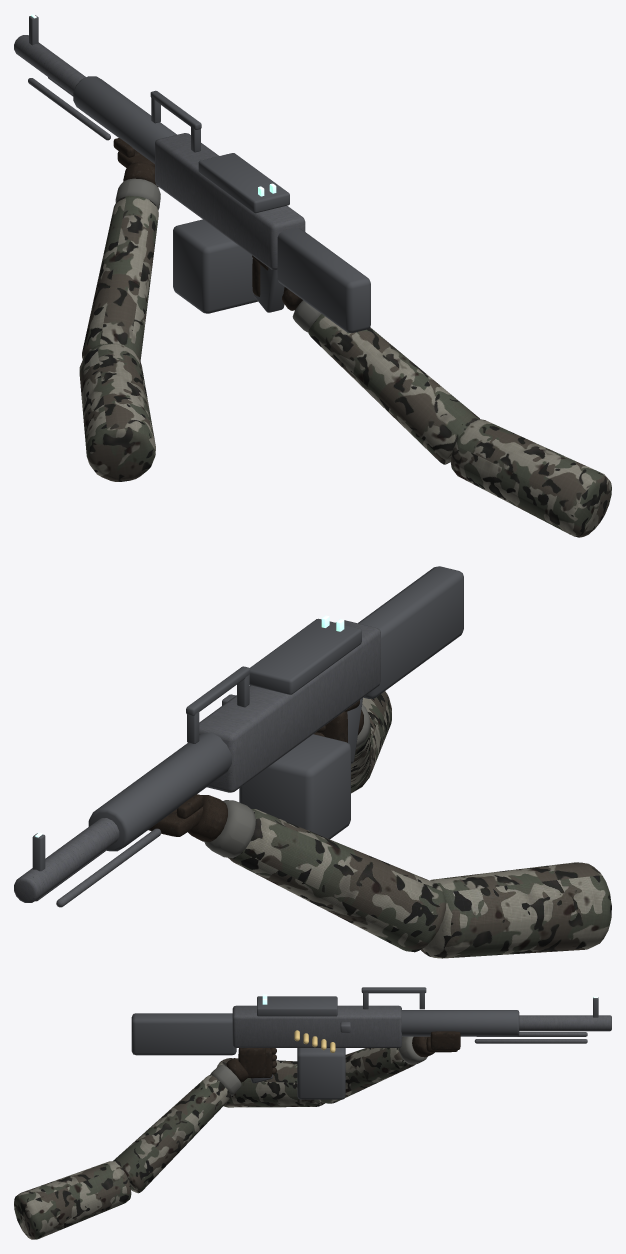
Rendered from vm_lmg.glb.
3 views of the same model, one above another, from view 1: azimuth 30°, elevation 25°; view 2: azimuth 150°, elevation 25°; view 3: azimuth 270°, elevation 25° (orthographic). The views are drawn at different scales.
Visible parts, largest first — view 1: UpperArmR, ForearmR, UpperArmL, ForearmL, Receiver, Stock, BoxMag, HeatShield, FeedCover, Barrel, Grip, CuffL (+1 smaller); view 2: UpperArmL, ForearmL, Receiver, BoxMag, Stock, HeatShield, FeedCover, Barrel, CuffL, UpperArmR, WristL, Bipod (+5 smaller); view 3: Receiver, UpperArmR, ForearmR, Stock, HeatShield, BoxMag, UpperArmL, ForearmL, FeedCover, Barrel, PalmR, FingersL (+5 smaller).
Part boxes in pixels (x1,y1,x2,y2): UpperArmR: (450, 419, 611, 537); ForearmR: (308, 314, 479, 464); UpperArmL: (79, 343, 155, 481); ForearmL: (82, 196, 158, 361); Receiver: (155, 133, 305, 269); Stock: (277, 228, 370, 332); BoxMag: (173, 219, 257, 313); HeatShield: (73, 76, 176, 163); FeedCover: (198, 153, 289, 213); Barrel: (14, 35, 85, 94); Grip: (254, 265, 284, 312); CuffL: (115, 178, 160, 210); UpperArmL: (421, 862, 611, 958); ForearmL: (228, 809, 446, 952); Receiver: (199, 620, 380, 792); BoxMag: (239, 734, 350, 839); Stock: (358, 566, 463, 698); HeatShield: (88, 732, 231, 851); FeedCover: (249, 618, 361, 694); Barrel: (14, 818, 119, 902); CuffL: (204, 800, 255, 858); UpperArmR: (351, 691, 391, 793); WristL: (187, 795, 227, 841); Bipod: (56, 828, 161, 907); Receiver: (232, 1005, 401, 1047); UpperArmR: (14, 1161, 131, 1239); ForearmR: (113, 1075, 230, 1193); Stock: (131, 1013, 236, 1055); HeatShield: (401, 1010, 519, 1036); BoxMag: (297, 1048, 345, 1099); UpperArmL: (217, 1058, 324, 1107); ForearmL: (319, 1036, 415, 1103); FeedCover: (257, 996, 337, 1016); Barrel: (519, 1015, 611, 1031); PalmR: (238, 1048, 265, 1078); FingersL: (430, 1031, 460, 1050).
Bounding box in the file's own units: 0.7741 × 0.5381 × 1.48.
Materials: 7 (3 with a texture image).
